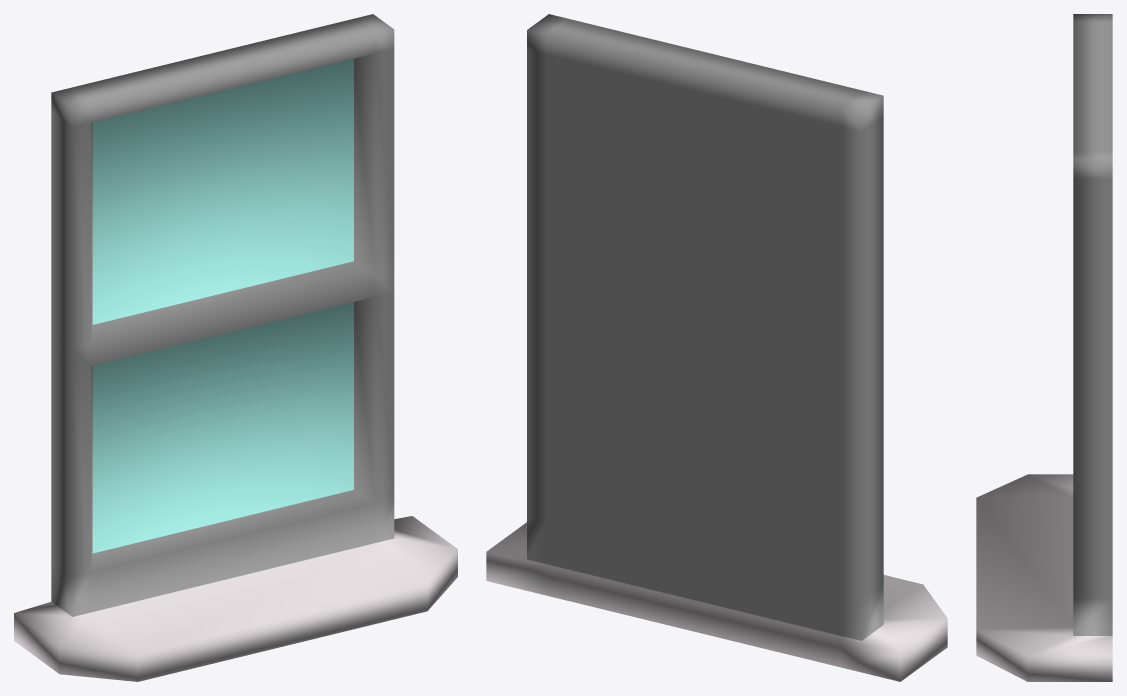
The model's file is WindowFrame.fbx.
The picture shows the model from 3 angles, left to right: view 1: azimuth 30°, elevation 25°; view 2: azimuth 150°, elevation 25°; view 3: azimuth 270°, elevation 25°; orthographic projection. The views are drawn at different scales.
Parts seen in each view (by area): view 1: Cube; view 2: Cube; view 3: Cube.
Boxes of the visible parts, box(x1,y1,x2,y2) form: Cube: box(14, 14, 457, 681); Cube: box(486, 14, 947, 681); Cube: box(976, 14, 1112, 681).
Bounding box in the file's own units: 267 × 346 × 84.73.
